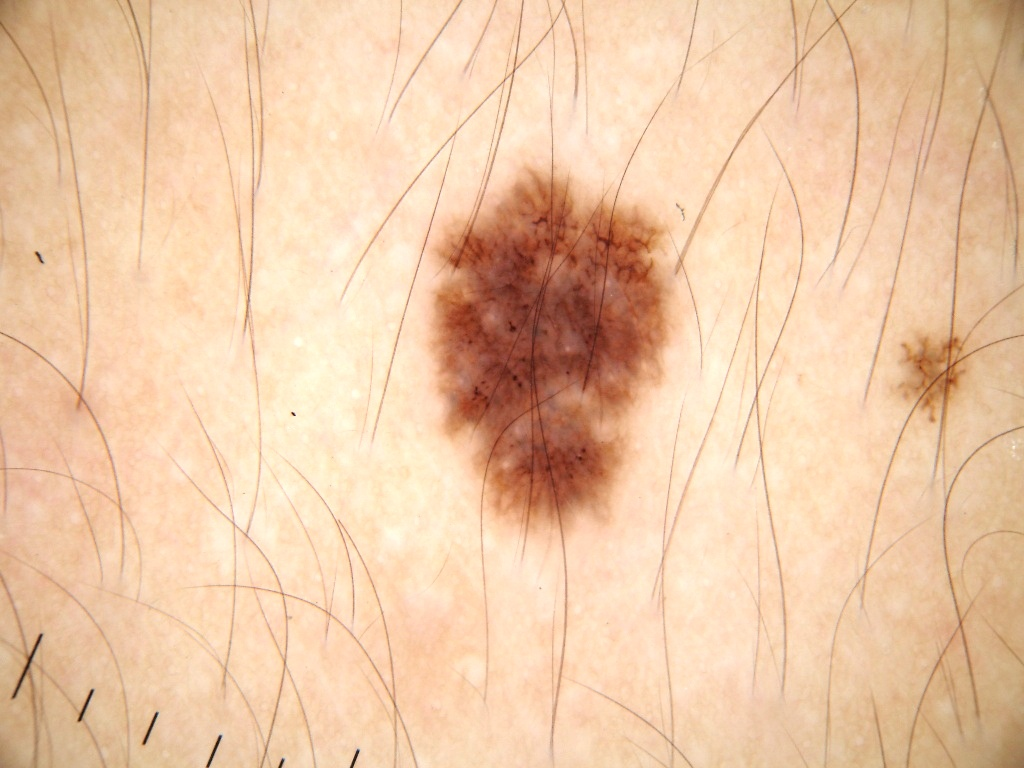Detected Lesion: (428, 165, 679, 545)
